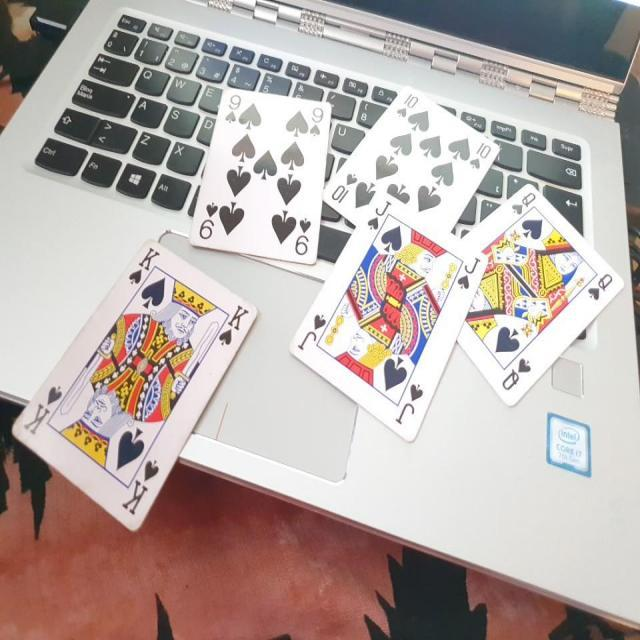10 of spades: (319, 75, 497, 285)
9 of spades: (191, 80, 335, 271)
jack of spades: (291, 194, 491, 446)
king of spades: (5, 240, 255, 540)
queen of spades: (438, 178, 628, 416)
